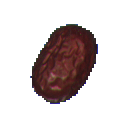gd: (18, 11, 118, 116)
